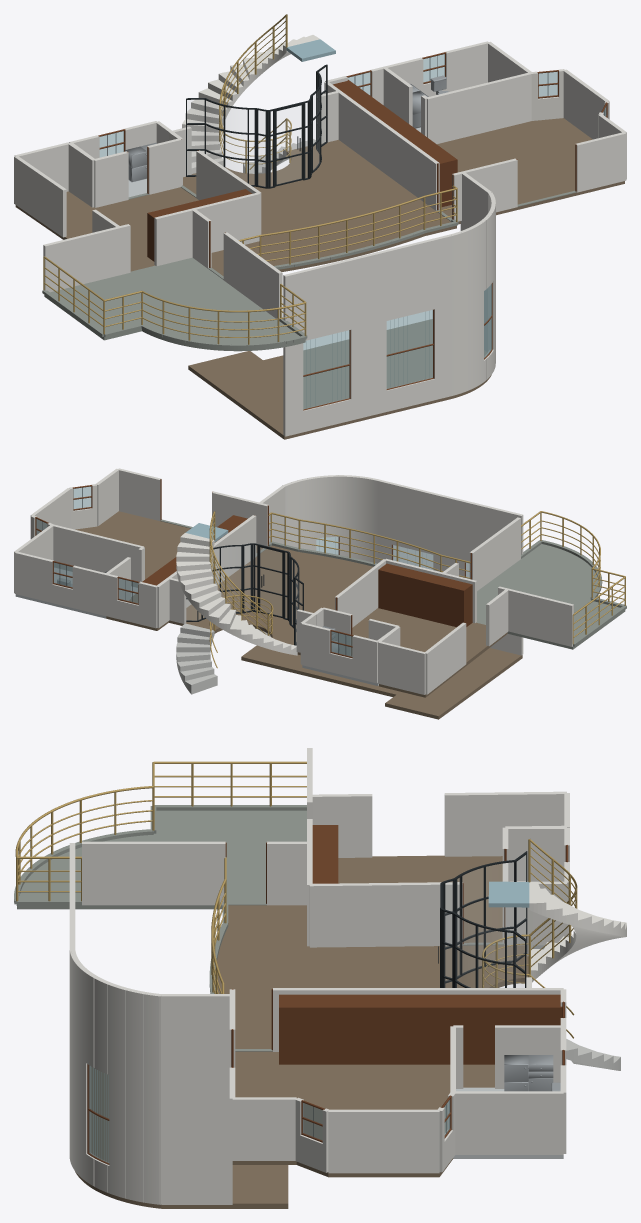
The model's file is first-floor.glb.
3 views of the same model, one above another, from view 1: azimuth 30°, elevation 25°; view 2: azimuth 150°, elevation 25°; view 3: azimuth 270°, elevation 25° (orthographic). The views are drawn at different scales.
Visible parts, largest first — view 1: First Floor - Planning Base 08 | joined wall display | web, FF-04 | floor | web, FF-02 | floor | web, Duplex context | ground commons floor | web, FF-06 | floor | web, FFP01 continuous glazing left | web, PB04 | First Floor - continuous UP flight | web, FF-03 | floor | web, FF-06 | FF06-CUPBOARD | web, FFP01 flat door glass | web, FF-03 | FF03-CUPBOARD | web, FFP01 continuous glazing right | web (+2 smaller); view 2: First Floor - Planning Base 08 | joined wall display | web, FF-04 | floor | web, FF-02 | floor | web, Duplex context | ground commons floor | web, FF-03 | FF03-CUPBOARD | web, PB04 | First Floor - continuous UP flight | web, FF-06 | floor | web, FF-03 | floor | web, PB04 | First Floor - incoming last 7 steps only | web, FFP01 continuous glazing right | web, FFP01 flat door glass | web, FF-06 | FF06-CUPBOARD | web (+7 smaller); view 3: First Floor - Planning Base 08 | joined wall display | web, FF-04 | floor | web, FF-06 | FF06-CUPBOARD | web, FF-06 | floor | web, FF-02 | floor | web, FF-03 | floor | web, Duplex context | ground commons floor | web, FFP01 continuous glazing left | web, FFP01 continuous glazing right | web, PB04 | First Floor - continuous UP flight | web, PB04 | Corrected First Floor | storage_cabinet_mid2_F2_3 | w, FF-03 | FF03-CUPBOARD | web (+4 smaller).
Part boxes in pixels (box(x1,y1,x2,y2)): First Floor - Planning Base 08 | joined wall display | web: box(14, 41, 626, 436); FF-04 | floor | web: box(183, 140, 456, 275); FF-02 | floor | web: box(44, 257, 305, 351); Duplex context | ground commons floor | web: box(188, 319, 491, 439); FF-06 | floor | web: box(437, 118, 624, 224); FFP01 continuous glazing left | web: box(187, 100, 272, 186); PB04 | First Floor - continuous UP flight | web: box(182, 35, 319, 173); FF-03 | floor | web: box(15, 187, 198, 271); FF-06 | FF06-CUPBOARD | web: box(333, 79, 457, 207); FFP01 flat door glass | web: box(277, 106, 301, 183); FF-03 | FF03-CUPBOARD | web: box(147, 189, 251, 261); FFP01 continuous glazing right | web: box(306, 68, 325, 177); First Floor - Planning Base 08 | joined wall display | web: box(14, 468, 573, 694); FF-04 | floor | web: box(168, 545, 373, 654); FF-02 | floor | web: box(476, 544, 625, 649); Duplex context | ground commons floor | web: box(241, 637, 522, 719); FF-03 | FF03-CUPBOARD | web: box(378, 563, 472, 627); PB04 | First Floor - continuous UP flight | web: box(176, 533, 297, 655); FF-06 | floor | web: box(75, 511, 263, 630); FF-03 | floor | web: box(352, 608, 507, 697); PB04 | First Floor - incoming last 7 steps only | web: box(176, 623, 217, 694); FFP01 continuous glazing right | web: box(187, 545, 256, 620); FFP01 flat door glass | web: box(260, 548, 281, 615); FF-06 | FF06-CUPBOARD | web: box(138, 515, 247, 603); First Floor - Planning Base 08 | joined wall display | web: box(69, 748, 569, 1204); FF-04 | floor | web: box(215, 905, 528, 1048); FF-06 | FF06-CUPBOARD | web: box(279, 994, 562, 1064); FF-06 | floor | web: box(232, 1051, 494, 1177); FF-02 | floor | web: box(16, 810, 306, 909); FF-03 | floor | web: box(338, 855, 502, 942); Duplex context | ground commons floor | web: box(75, 1067, 288, 1208); FFP01 continuous glazing left | web: box(446, 855, 526, 980); FFP01 continuous glazing right | web: box(445, 913, 524, 987); PB04 | First Floor - continuous UP flight | web: box(529, 881, 626, 982); PB04 | Corrected First Floor | storage_cabinet_mid2_F2_3 | w: box(504, 1055, 553, 1091); FF-03 | FF03-CUPBOARD | web: box(312, 825, 338, 883).
Bounding box in the file's own units: 18.49 × 7.81 × 13.13.
